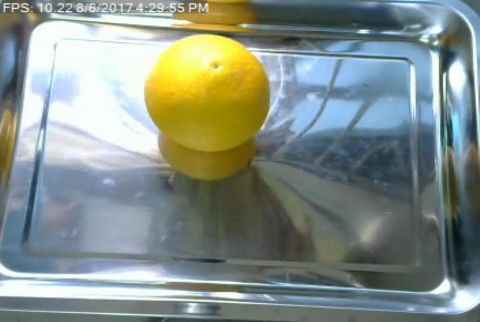Orange: (145, 34, 270, 152)
